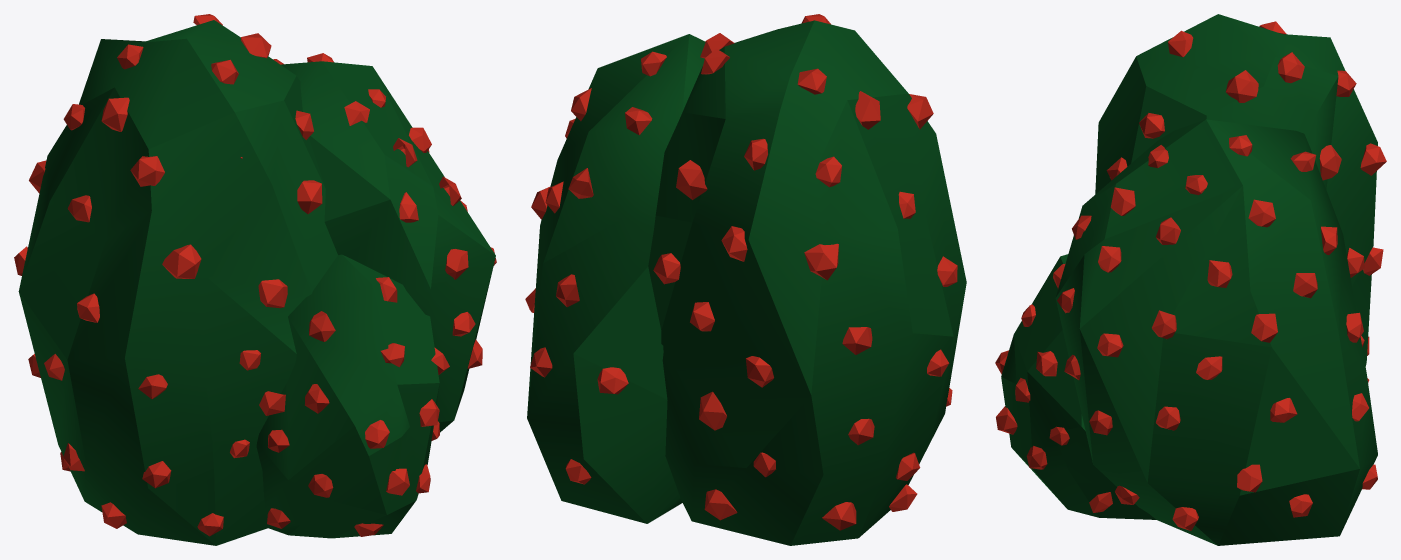
Rendered from Bush_2_WF.fbx.
3 views of the same model, side by side, from view 1: azimuth 30°, elevation 25°; view 2: azimuth 150°, elevation 25°; view 3: azimuth 270°, elevation 25° (orthographic). The views are drawn at different scales.
Parts seen in each view (by area): view 1: Bush_2_WF; view 2: Bush_2_WF; view 3: Bush_2_WF.
Boxes of the visible parts, left/top/right/bottom form: Bush_2_WF: left=14, top=14, right=496, bottom=545; Bush_2_WF: left=525, top=14, right=966, bottom=545; Bush_2_WF: left=995, top=14, right=1386, bottom=545.
Size of the model in its own units: 48.43 by 54.91 by 44.46.
